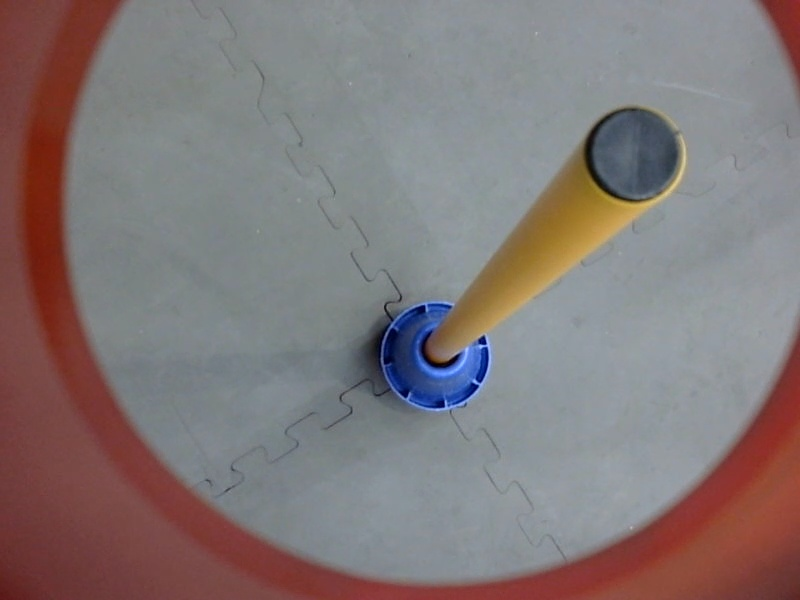tip: (577, 100, 691, 213)
